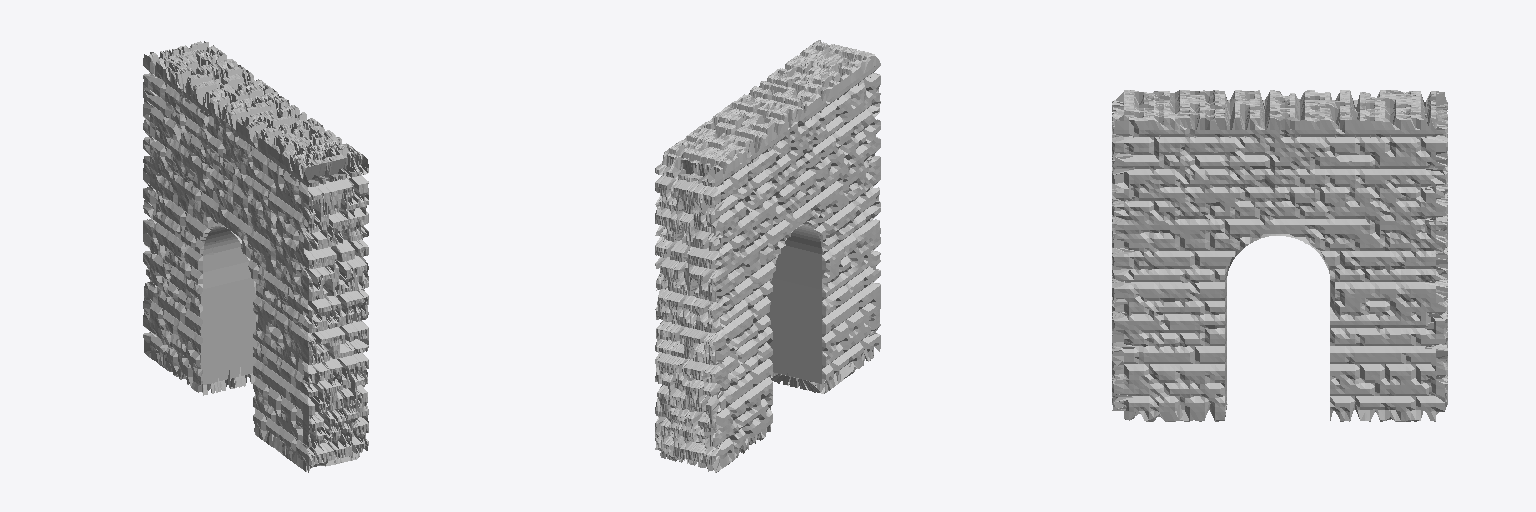
The model's file is brickwall_doorway.obj.
3 views of the same model, side by side, from view 1: azimuth 30°, elevation 25°; view 2: azimuth 150°, elevation 25°; view 3: azimuth 270°, elevation 25° (orthographic).
Parts seen in each view (by area): view 1: Cube_Cube.001; view 2: Cube_Cube.001; view 3: Cube_Cube.001.
Boxes of the visible parts, x1=… form: Cube_Cube.001: x1=143, y1=41, x2=368, y2=472; Cube_Cube.001: x1=655, y1=40, x2=880, y2=472; Cube_Cube.001: x1=1112, y1=90, x2=1447, y2=421.
Size of the model in its own units: 0.4374 by 2.09 by 2.09.